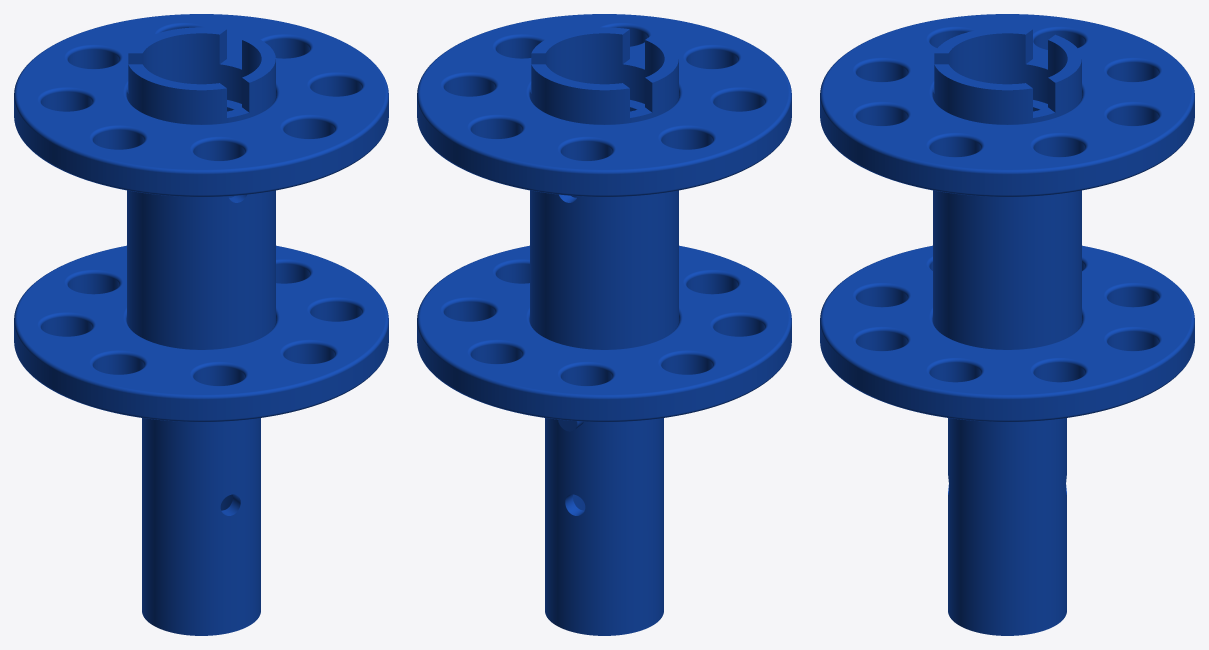
Rendered from 10_placa_amarre.glb.
The picture shows the model from 3 angles, left to right: view 1: azimuth 30°, elevation 25°; view 2: azimuth 150°, elevation 25°; view 3: azimuth 270°, elevation 25°; orthographic projection.
Visible parts, largest first — view 1: 10_placa_amarre; view 2: 10_placa_amarre; view 3: 10_placa_amarre.
Part boxes in pixels (bbox=[...]): 10_placa_amarre: bbox=[14, 14, 388, 635]; 10_placa_amarre: bbox=[417, 14, 791, 635]; 10_placa_amarre: bbox=[820, 14, 1194, 635].
Size of the model in its own units: 160 by 260 by 160.
